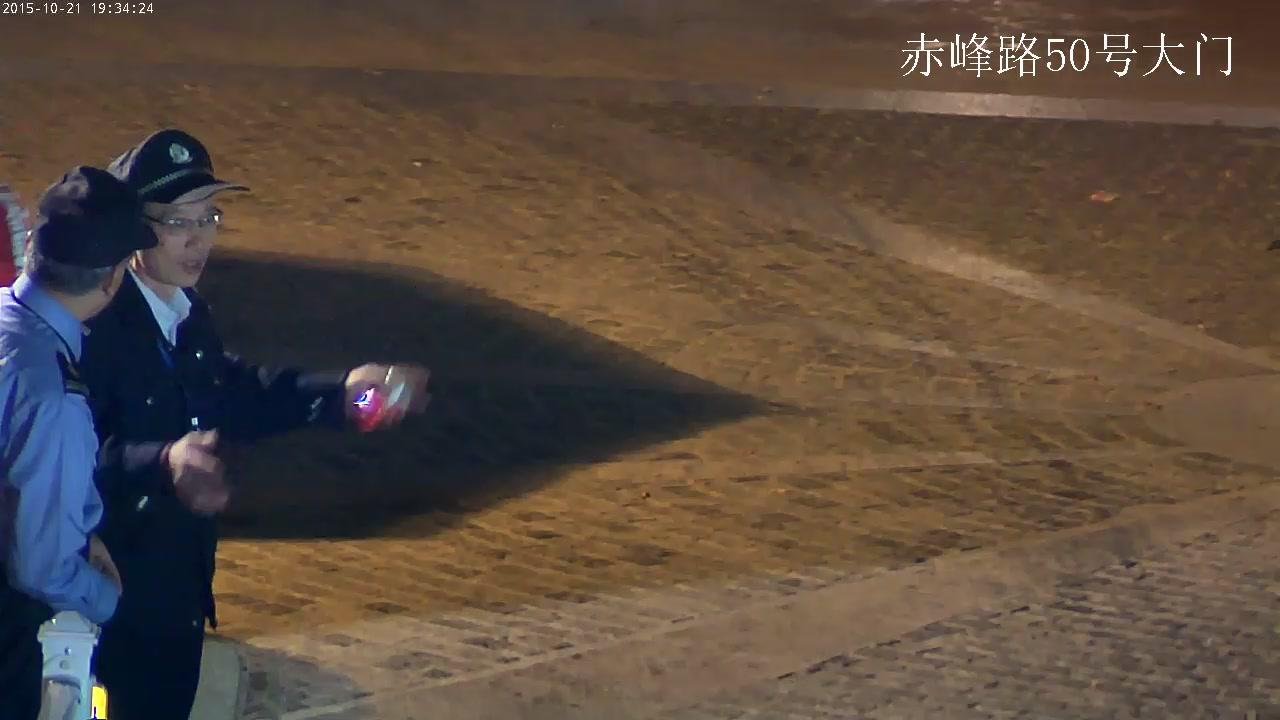face: (139, 198, 213, 287)
